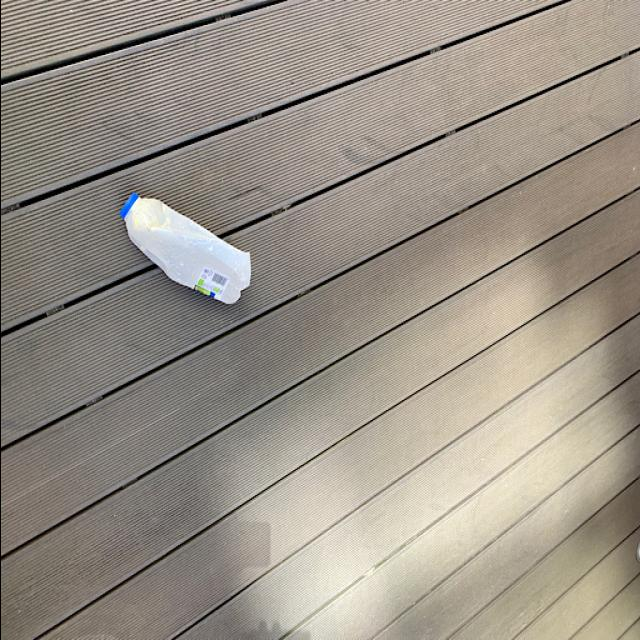litter: (115, 184, 252, 312)
